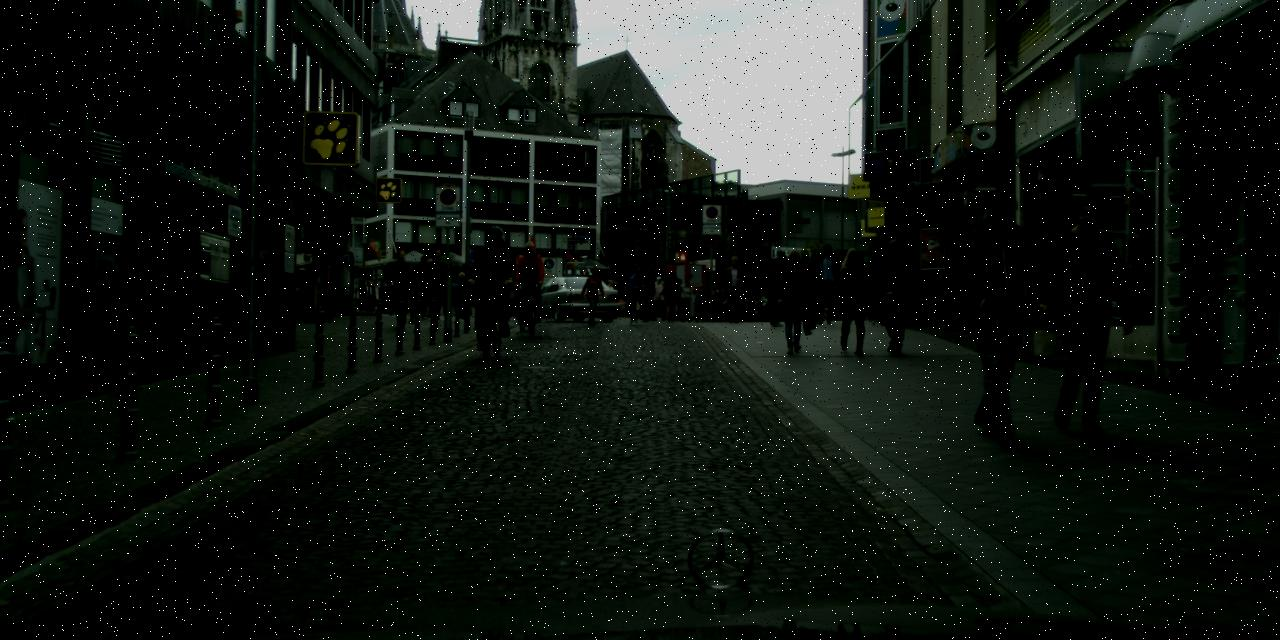ped: (947, 188, 1049, 436), (1033, 196, 1128, 430), (470, 224, 518, 340), (871, 237, 918, 352), (831, 247, 873, 352), (772, 248, 814, 352), (809, 243, 842, 324), (514, 240, 547, 320), (384, 250, 416, 328), (762, 250, 794, 326), (421, 248, 450, 318), (721, 255, 748, 322), (411, 254, 436, 318), (624, 264, 648, 324), (582, 266, 604, 324), (638, 272, 658, 320), (661, 272, 681, 320), (451, 272, 471, 319), (649, 276, 668, 320), (672, 278, 689, 320), (678, 280, 694, 321), (602, 279, 618, 319), (441, 276, 457, 316), (378, 283, 391, 313), (362, 280, 374, 312), (510, 287, 521, 317), (387, 289, 396, 313), (471, 287, 479, 314)
